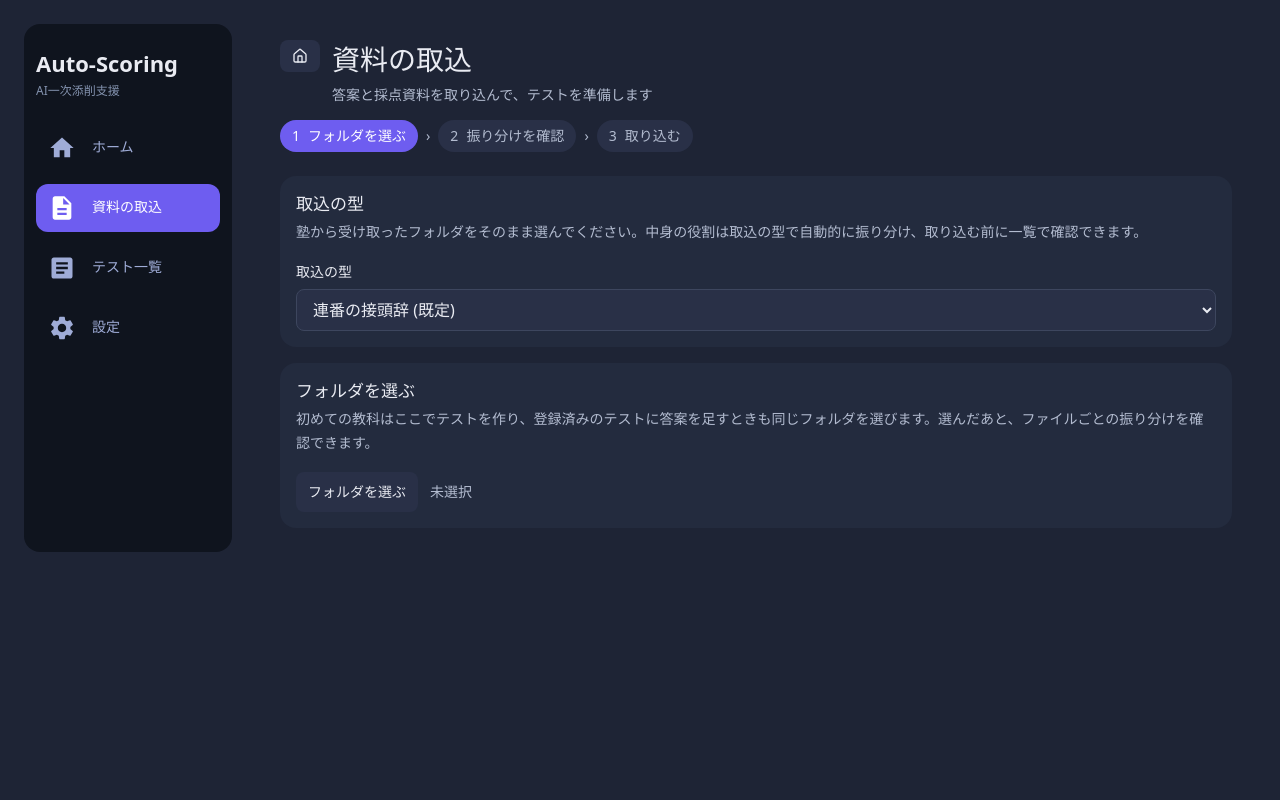
Issue #384 (2): the narrowing copy names the folder › does not use the word バッチ
Expected: the dropdown with test id "intake-template-picker" is shown, x1=296 y1=289 x2=1216 y2=331
Click the button with test id "intake-choose-folder" at (357, 492), box x1=296 y1=472 x2=418 y2=512
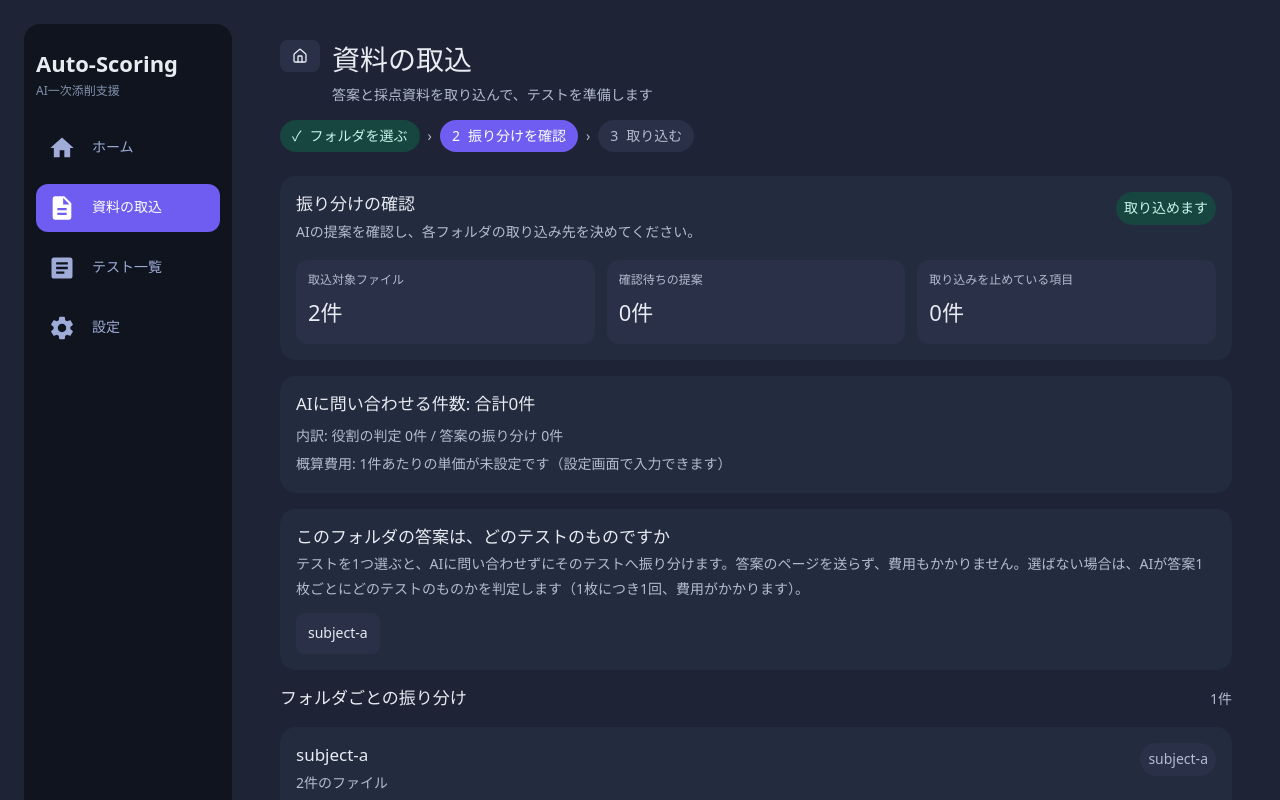
Expected: the element with test id "intake-narrowing" is shown, x1=280 y1=509 x2=1232 y2=670
